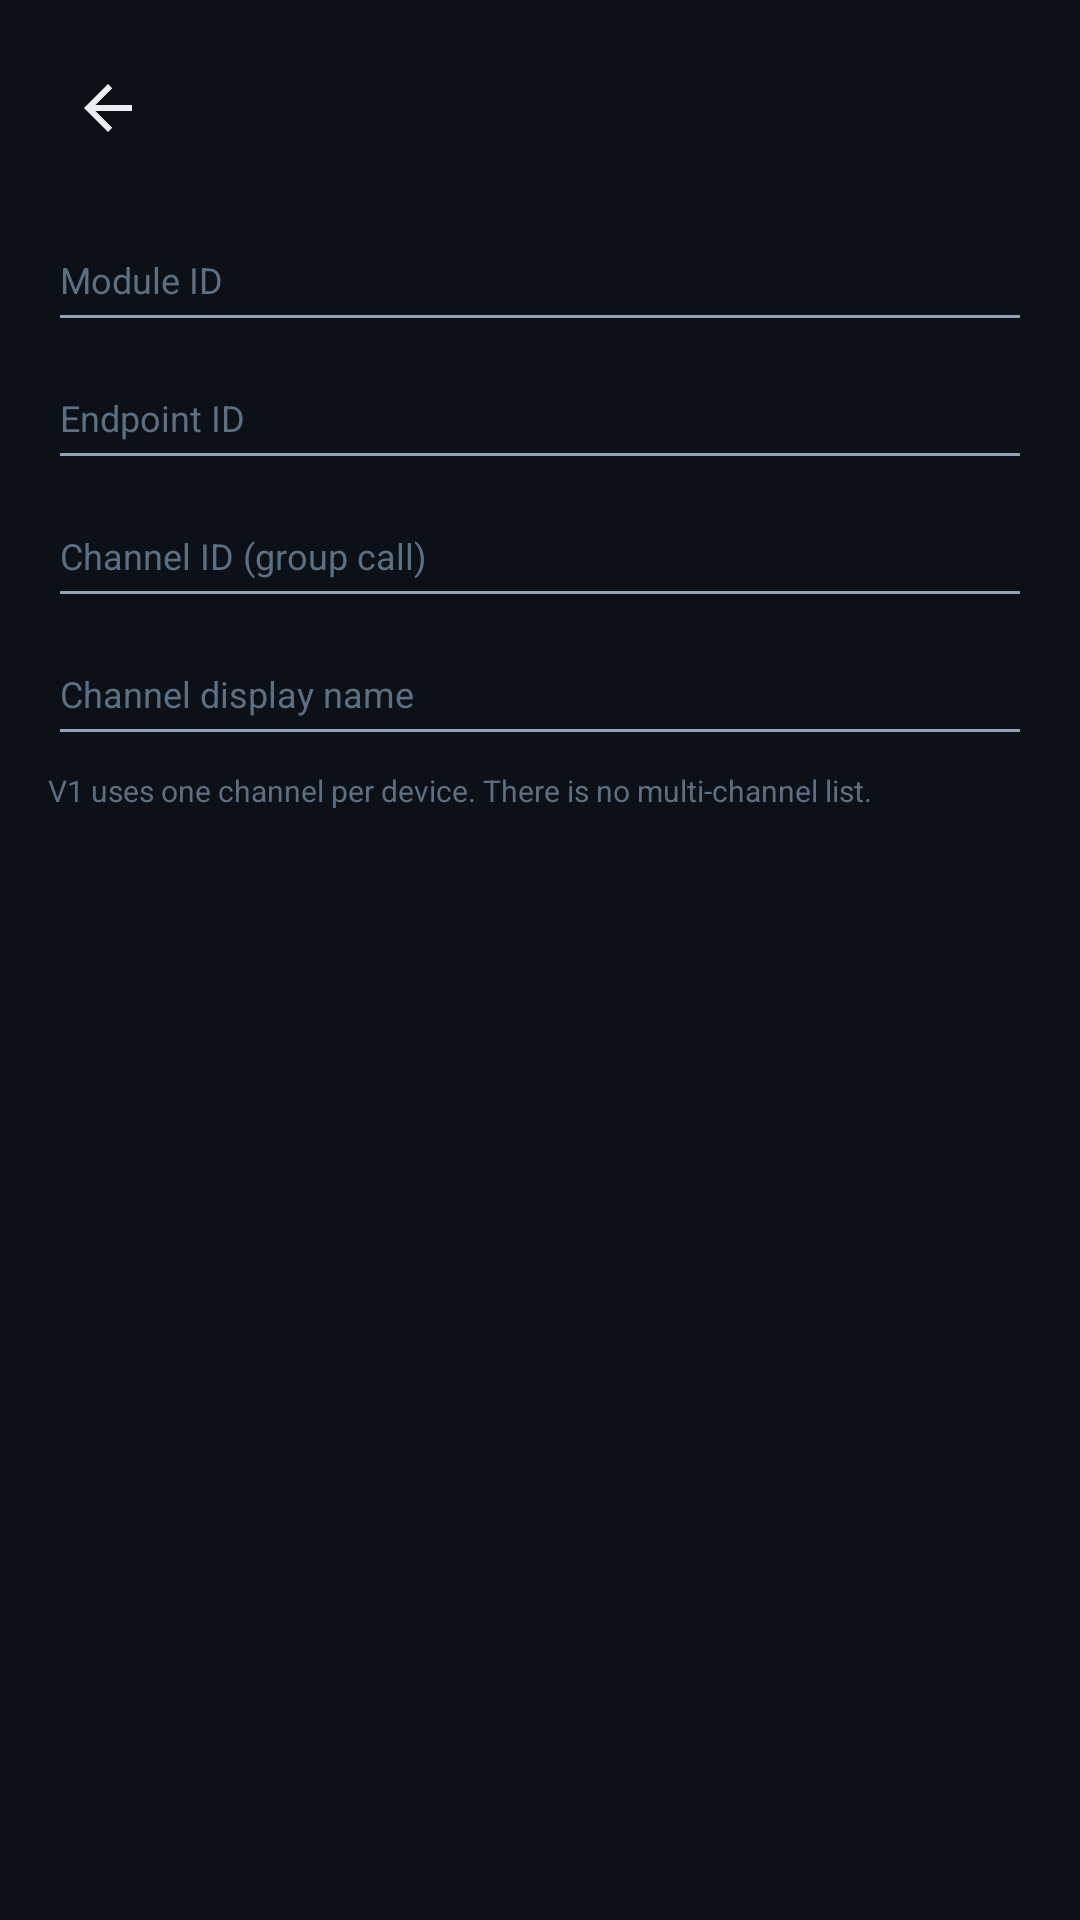

Locate icon controls on the screen. Image size 1080×1920, boxes as [x1=x1, y1=y1, x2=x2, y2=y2].
Back: [x1=84, y1=84, x2=132, y2=132]
